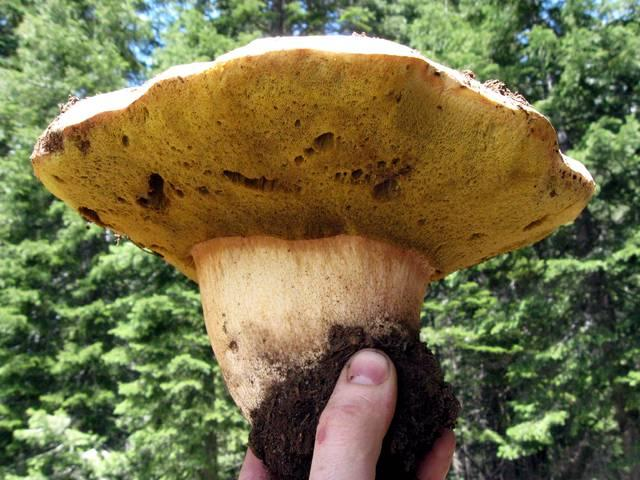edible_mushroom: (29, 31, 596, 479)
